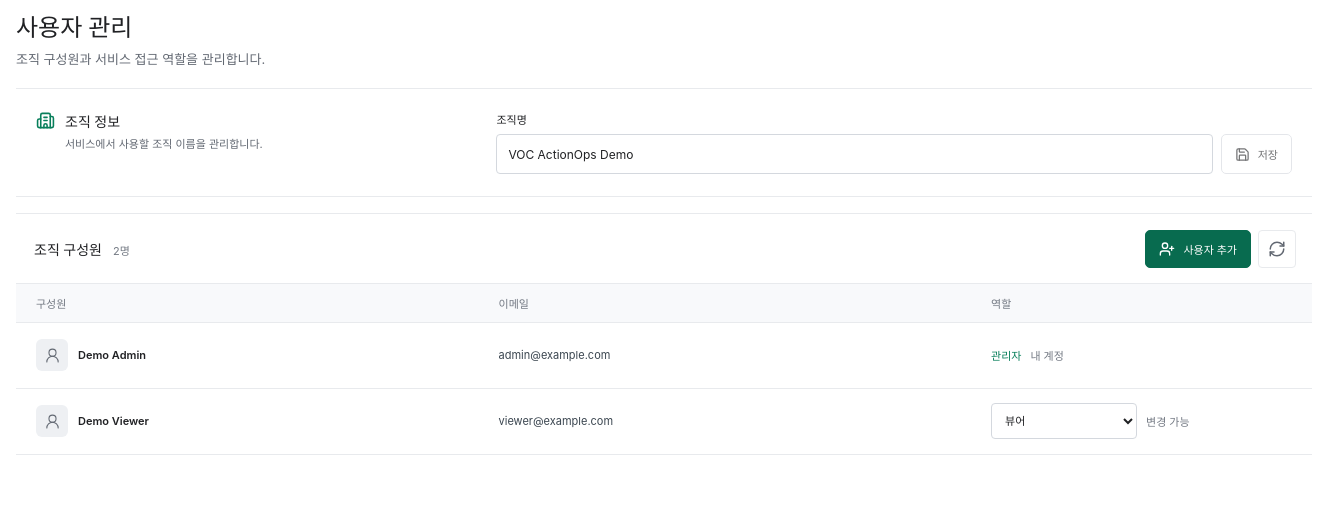
UsersPage › updates another organization user role
Select "개발자" in the dropdown named "Demo Viewer 역할": (1064, 421) [991, 403, 1137, 439]
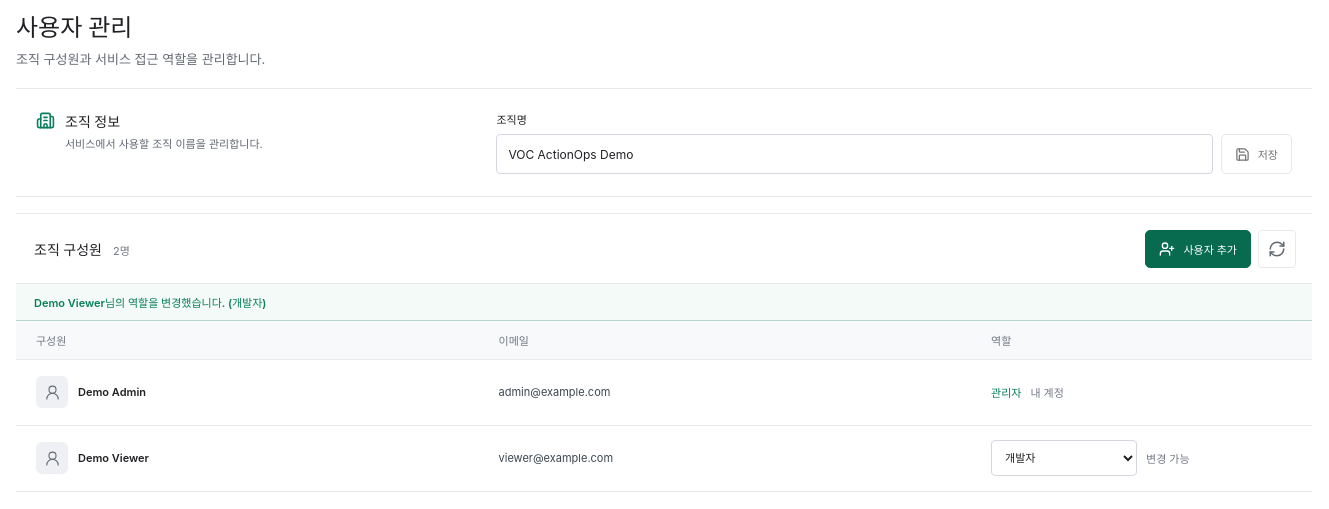
Expected: the text "Demo Viewer님의 역할을 변경했습니다. (개발자)" is shown, [16, 284, 1312, 321]
